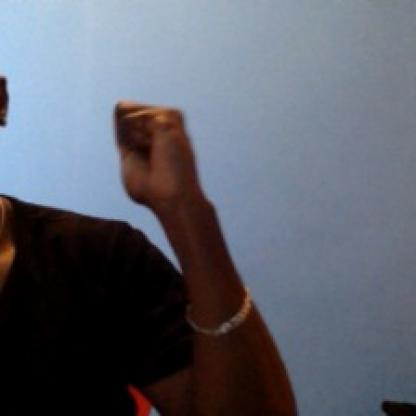BACKWARD: (104, 70, 216, 245)
